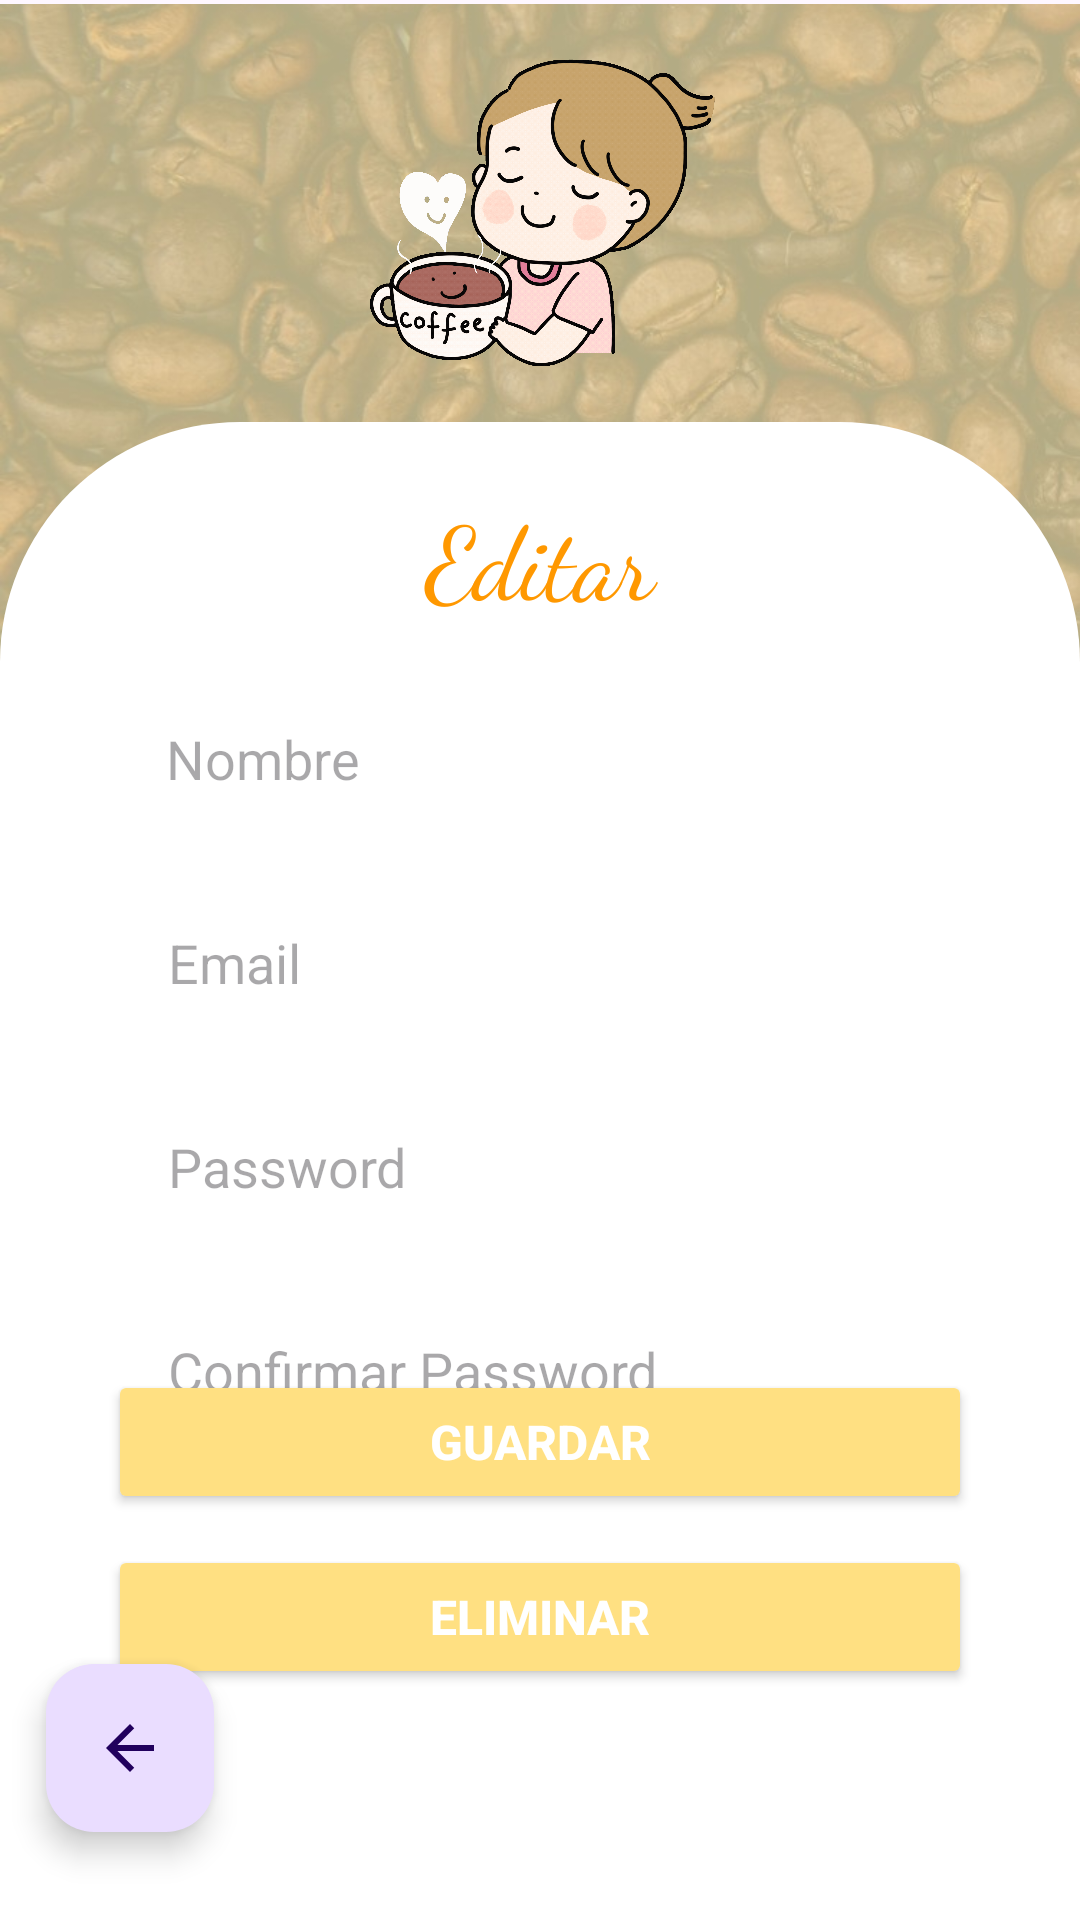

Icons on this 1080×1920 Android screen, each with its box as [x1, y1, x2, y2]:
atras: [46, 1664, 214, 1832]
